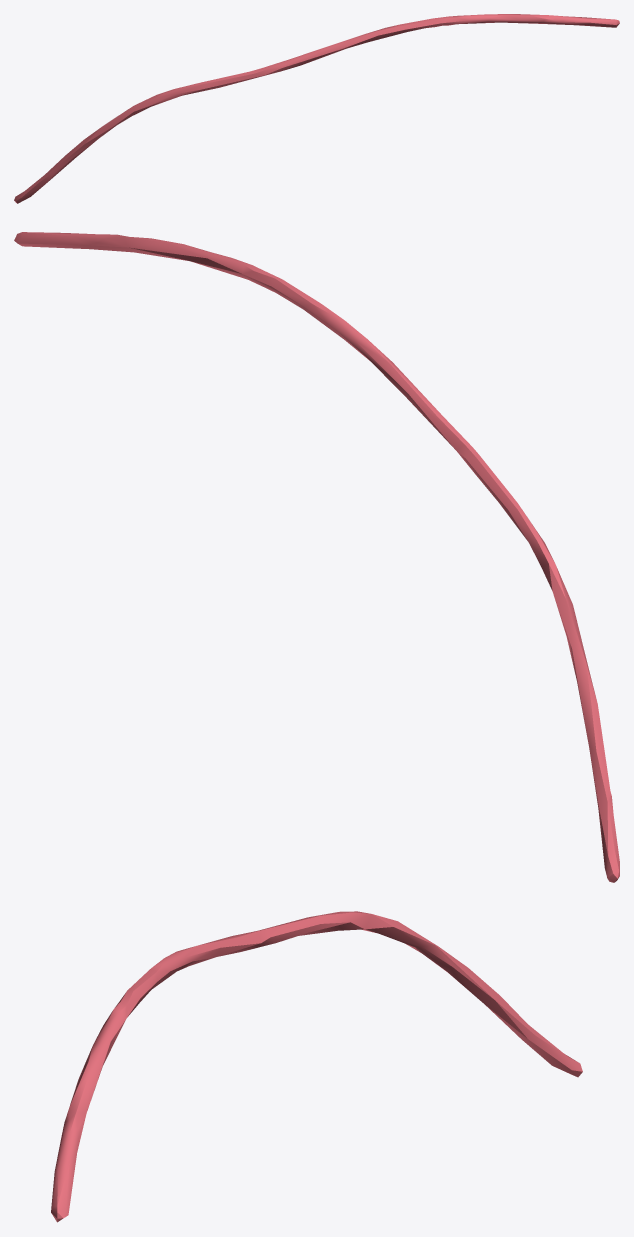
Rendered from fma50023_fj5206.glb.
The picture shows the model from 3 angles, top to bottom: view 1: azimuth 30°, elevation 25°; view 2: azimuth 150°, elevation 25°; view 3: azimuth 270°, elevation 25°; orthographic projection. The views are drawn at different scales.
Visible parts, largest first — view 1: FMA50023_FJ5206; view 2: FMA50023_FJ5206; view 3: FMA50023_FJ5206.
Boxes of the visible parts, x1,y1,x2,y2 form: FMA50023_FJ5206: (14,14,619,203); FMA50023_FJ5206: (14,232,619,882); FMA50023_FJ5206: (51,911,582,1222).
Bounding box in the file's own units: 0.0175 × 0.00673 × 0.00848.
